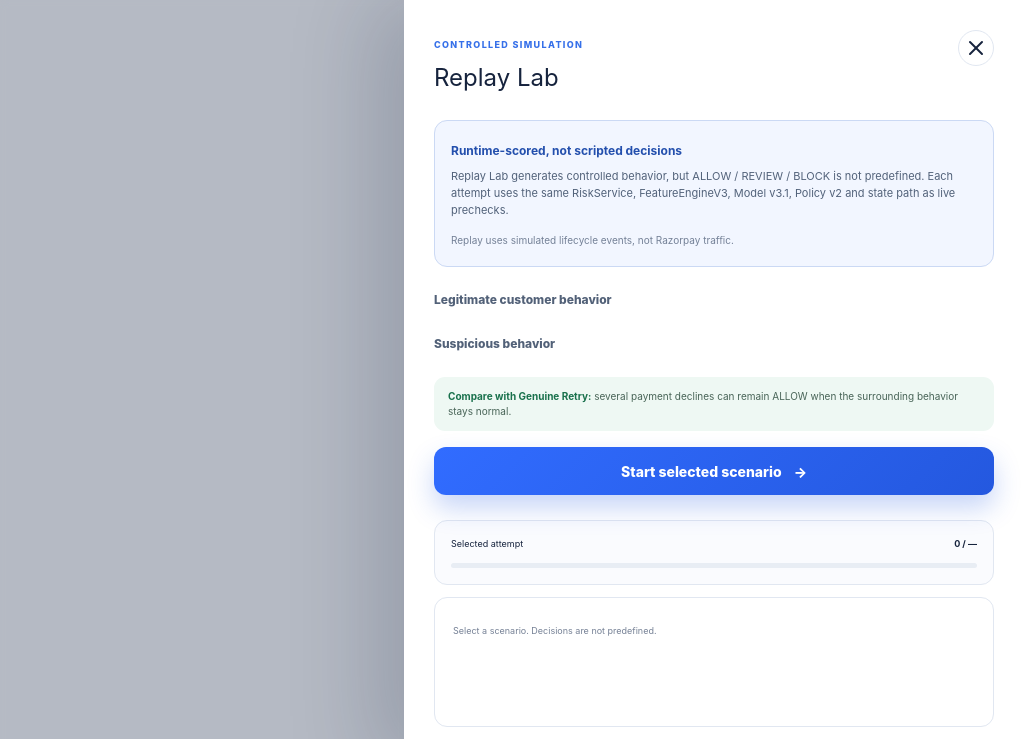
Test: ReplayDrawer › handles unchanged evidence without implying model contribution
Click the button "Start selected scenario →" at (714, 471), box [434,447,994,495]
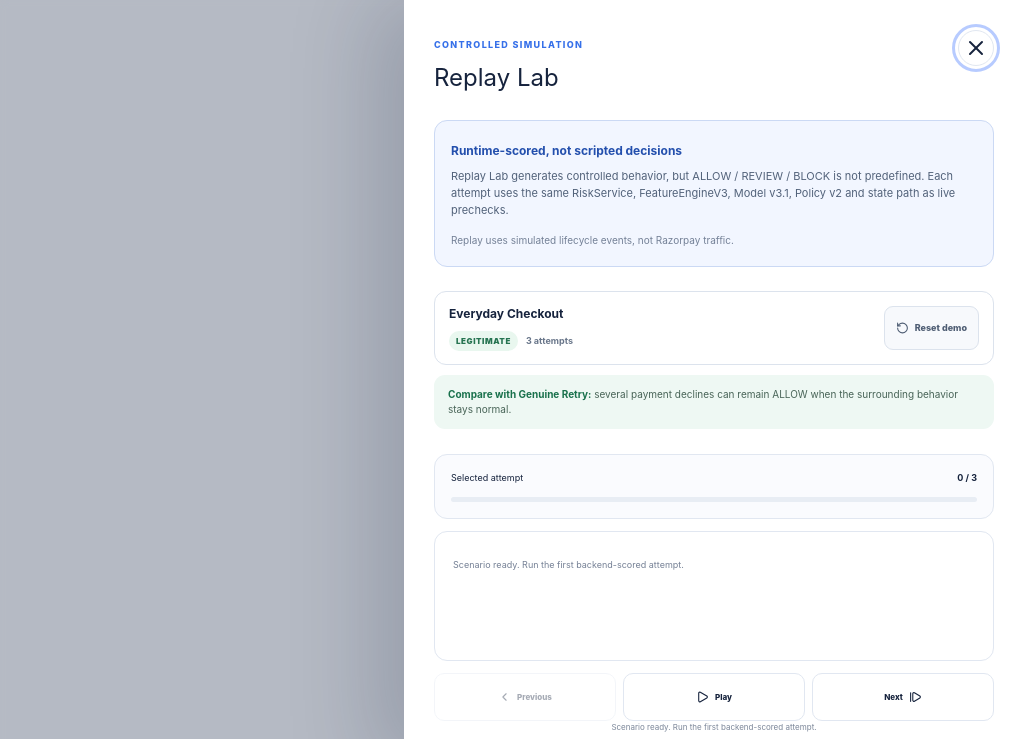
Expected: the button "Next" is enabled
Click the button "Next" at (903, 697), box [812,673,994,721]
(page scrolled)
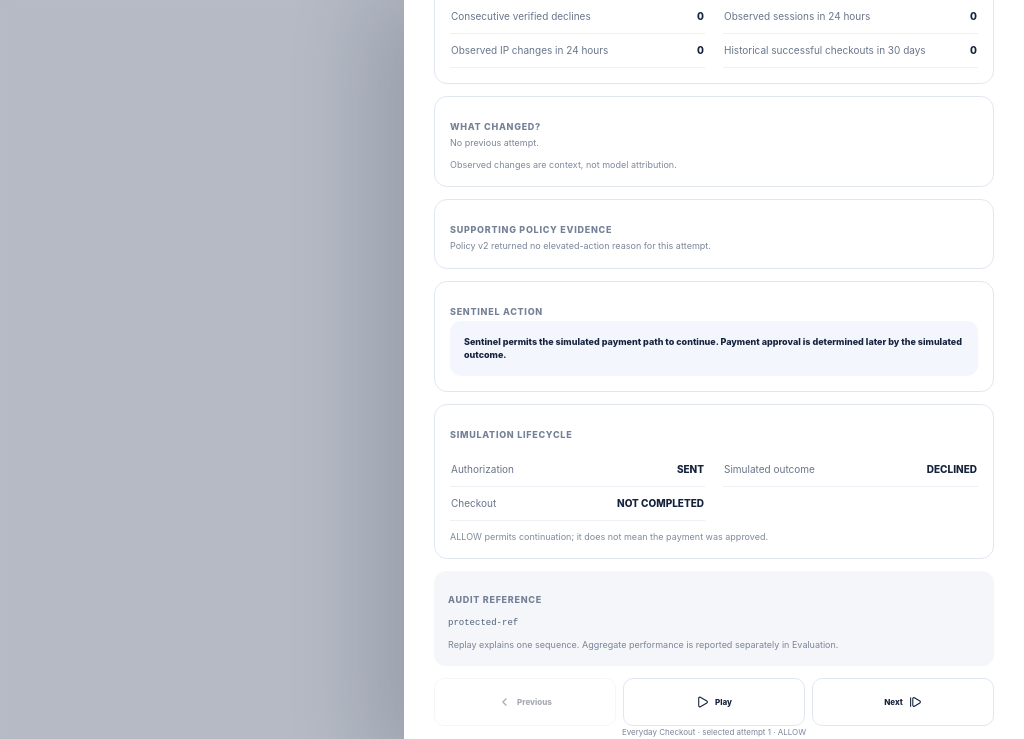
Click the button "Next" at (903, 702), box [812,678,994,726]
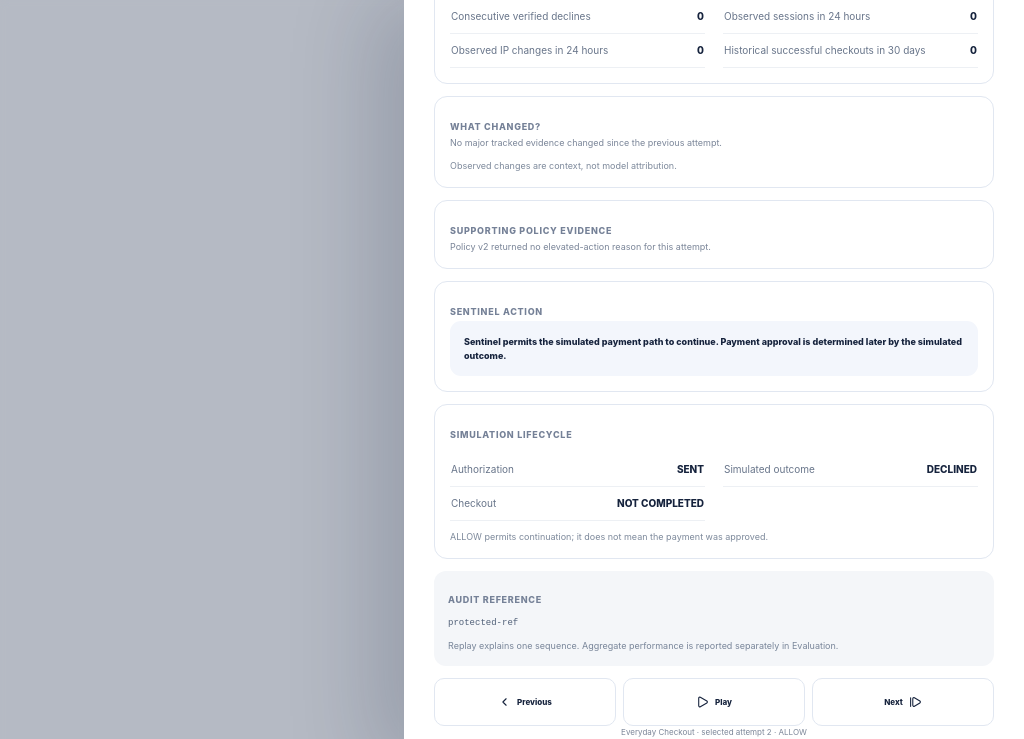
Expected: the text "Observed changes are context, not model attribution." is shown, [450,160,677,171]
Expected: the text "No major tracked evidence changed since the previous attempt." is shown, [450,137,722,148]
